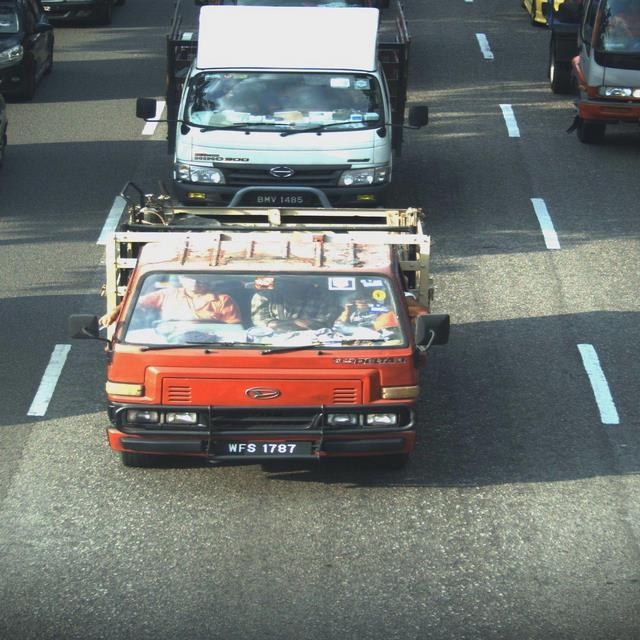License_Plate: (209, 429, 319, 461)
lorry: (92, 176, 437, 474)
